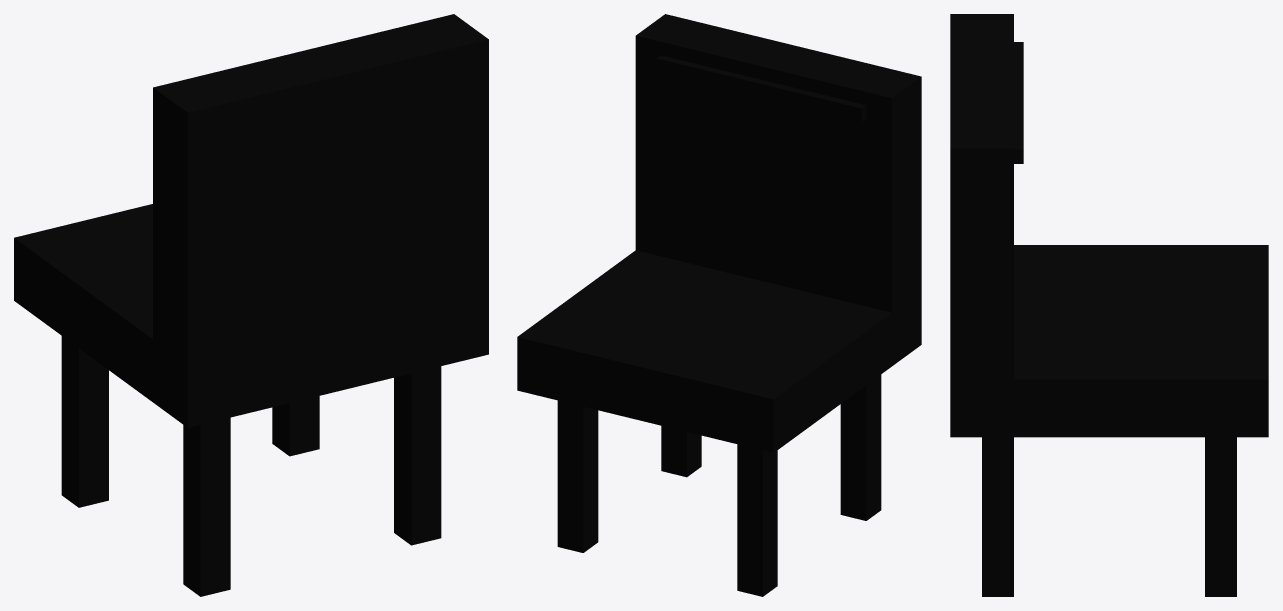
File: lab_chair.obj
3 views of the same model, side by side, from view 1: azimuth 30°, elevation 25°; view 2: azimuth 150°, elevation 25°; view 3: azimuth 270°, elevation 25° (orthographic). The views are drawn at different scales.
Size of the model in its own units: 0.625 by 1 by 0.625.
